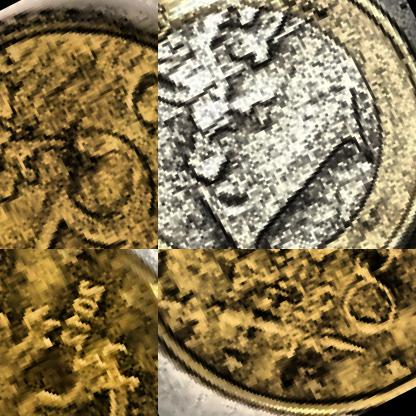coin: (158, 0, 415, 248), (158, 249, 415, 415), (0, 0, 157, 248), (0, 249, 157, 415)
